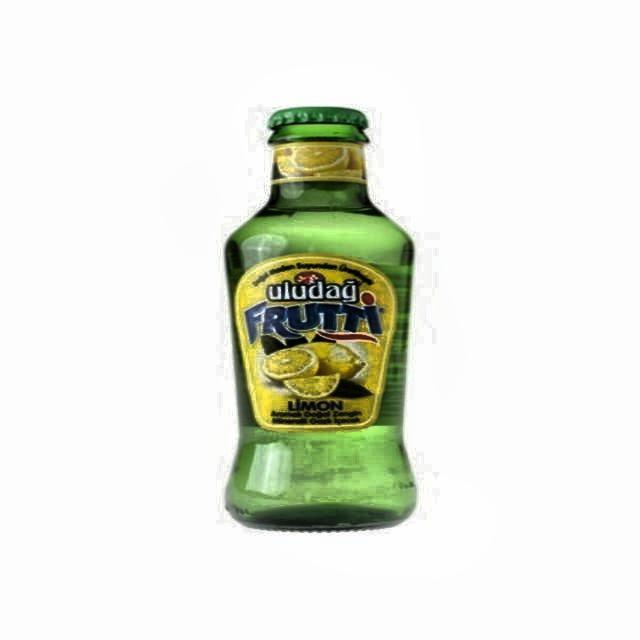glass: (223, 106, 418, 534)
